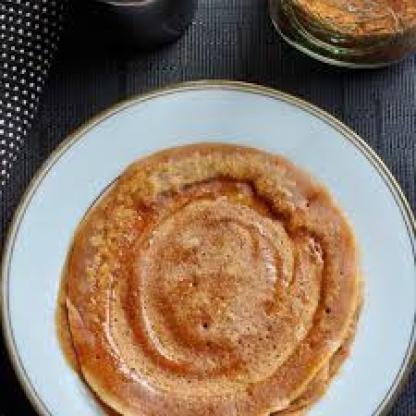dosa: (56, 142, 362, 416)
